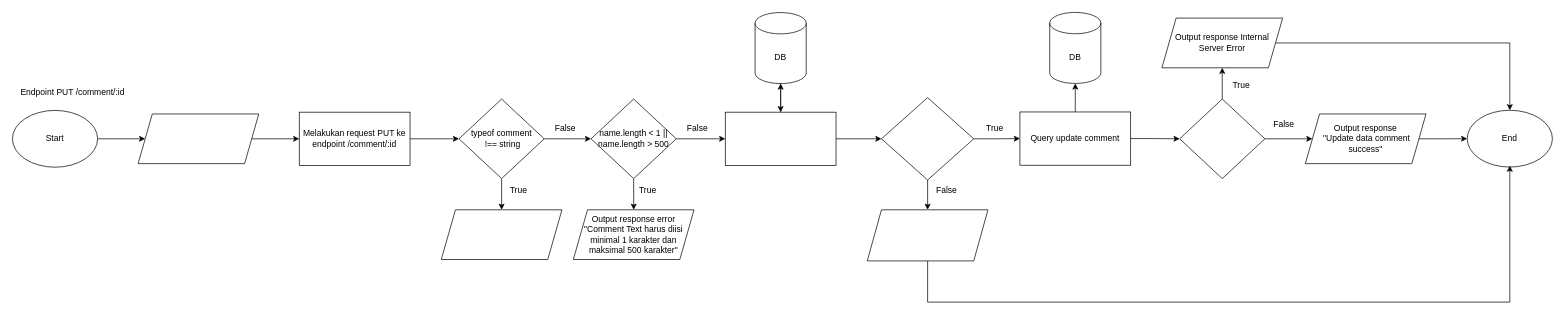
The diagram is 1565 pixels wide and 320 high, and some of its shapes have lost their labels. The box of each missing label's shape, as (x1, y1, x2, y2) in pixels:
Comment ditemukan di database: (881, 97, 974, 180)
Input body (commentText): (137, 113, 259, 164)
Output response error "Comment Text harus bertipe string": (441, 209, 562, 260)
Output response error "Comment with that Id not found": (867, 209, 988, 261)
Query select detail comment: (725, 111, 836, 165)
Terdapat error: (1179, 98, 1265, 179)
